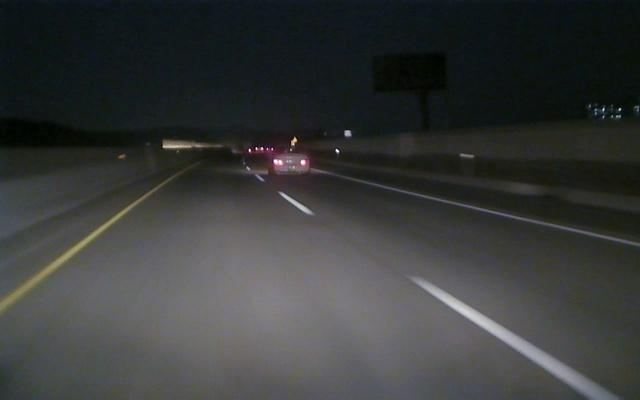lane: (276, 191, 619, 399), (354, 179, 640, 248), (3, 191, 151, 312)
